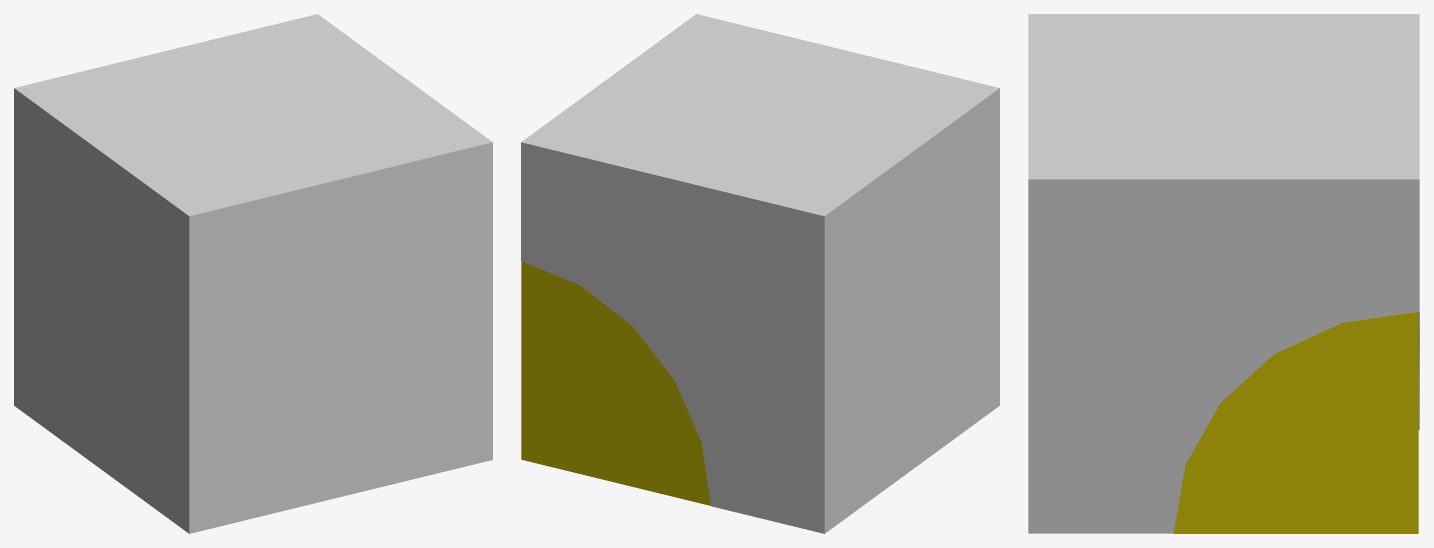
The model's file is core_Quarter.fbx.
3 views of the same model, side by side, from view 1: azimuth 30°, elevation 25°; view 2: azimuth 150°, elevation 25°; view 3: azimuth 270°, elevation 25° (orthographic). The views are drawn at different scales.
Parts seen in each view (by area): view 1: polySurface206; view 2: polySurface206; view 3: polySurface206.
Part boxes in pixels (<box>): polySurface206: <box>14,14,492,533</box>; polySurface206: <box>521,14,999,533</box>; polySurface206: <box>1028,14,1419,533</box>.
Bounding box in the file's own units: 1 × 1 × 1.
